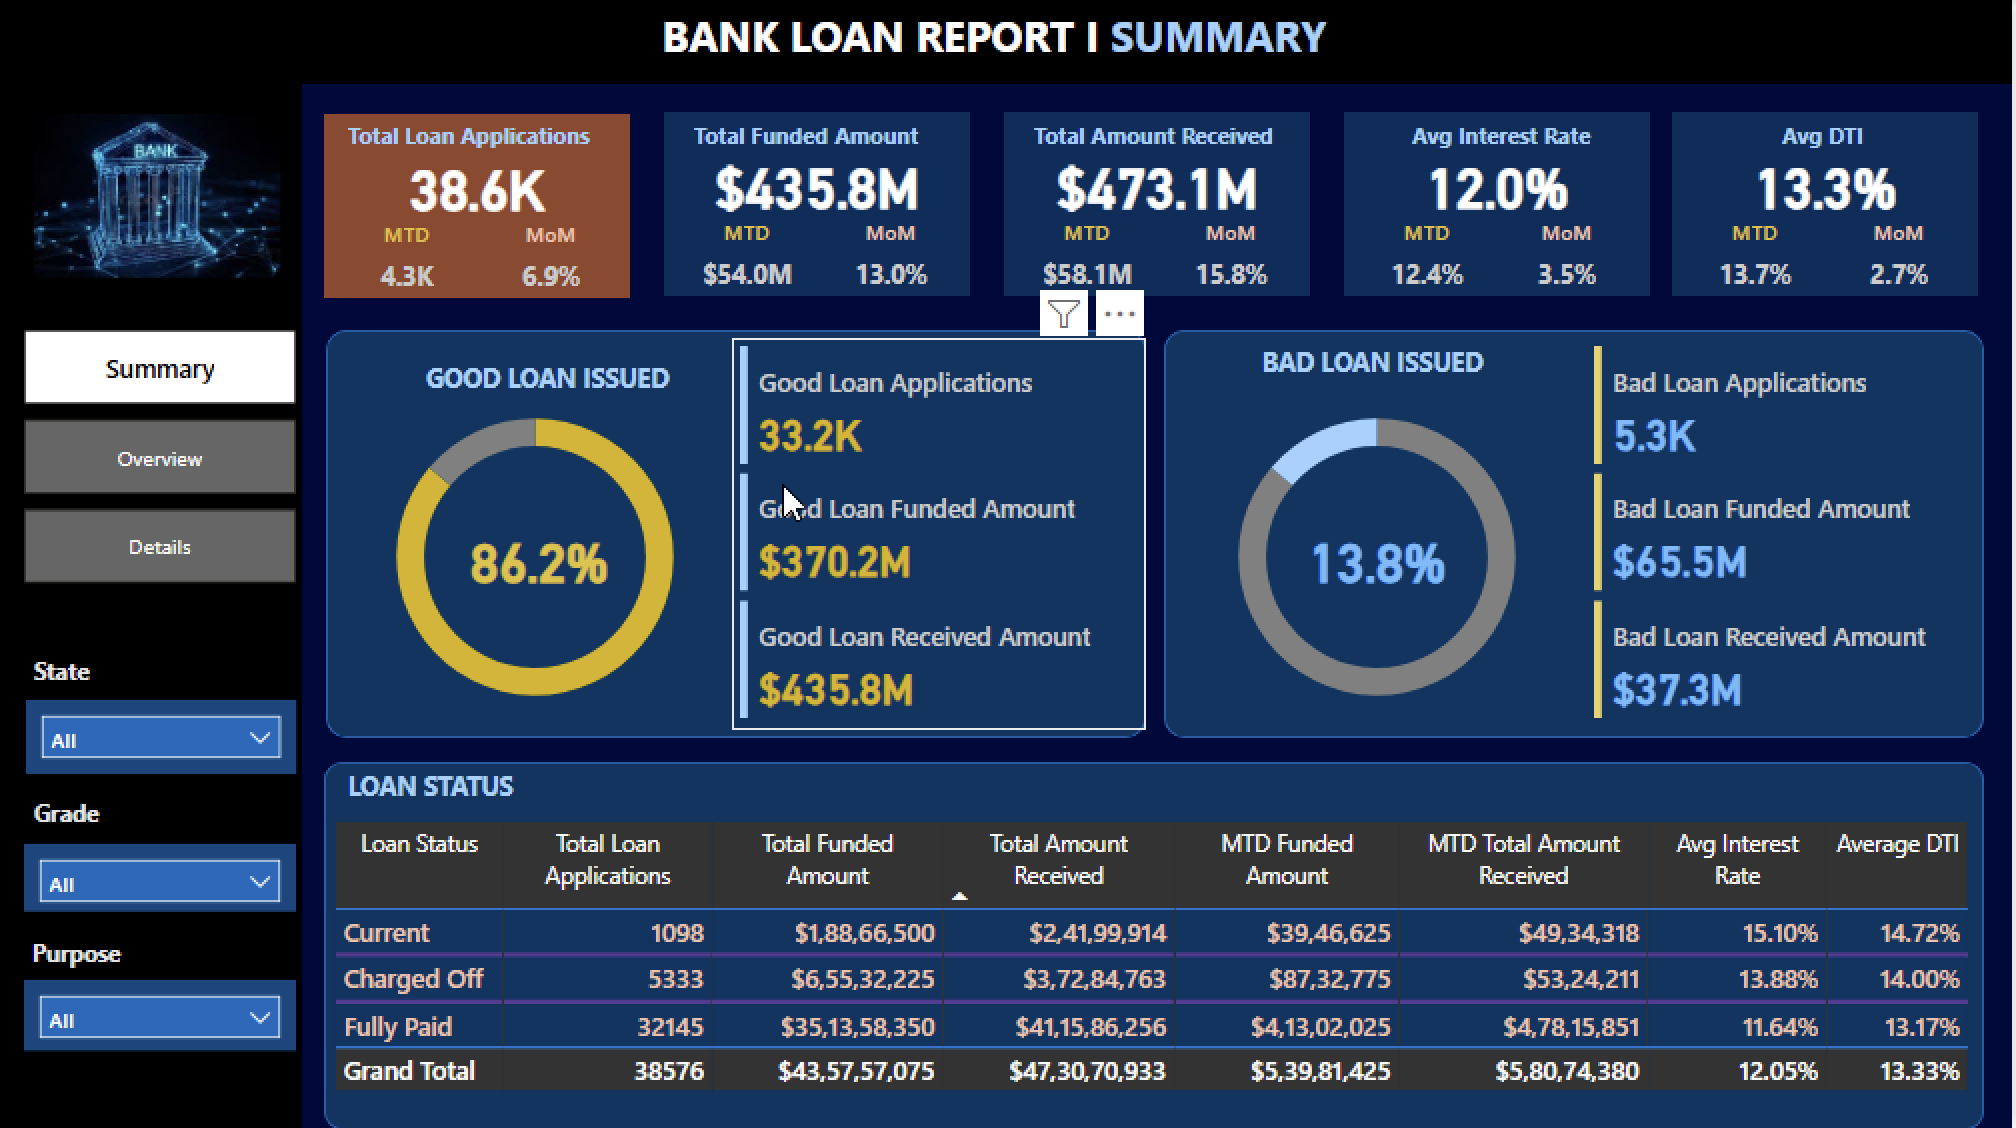

Layout of this report page (visuals, bound fields, positions):
{"tool":"powerbi","page":{"name":"Summary","canvas":[1280,720],"ordinal":0},"visuals":[{"type":"shape","box":[423,72.5,194.6,117],"z":0,"group":"g2"},{"type":"shape","box":[638.6,72.5,194.6,117],"z":0,"group":"g3"},{"type":"shape","box":[855.5,72.5,194.6,117],"z":0},{"type":"shape","box":[1063.5,72.5,194.6,117],"z":0,"group":"g4"},{"type":"shape","box":[206.1,74.5,194.6,117],"z":0,"group":"g1"},{"type":"card","fields":{"Values":["financial_loan.Total Funded Amount"]},"box":[423,90.3,194.6,56],"z":1000,"group":"g2"},{"type":"card","fields":{"Values":["financial_loan.Total Amount Received"]},"box":[638.6,90.3,194.6,56],"z":1000,"group":"g3"},{"type":"card","fields":{"Values":["financial_loan.Average DTI"]},"box":[1063.5,90.3,194.6,56],"z":1000,"group":"g4"},{"type":"card","fields":{"Values":["financial_loan.Total Loan Applications"]},"box":[206.1,92.3,194.6,56],"z":1000,"group":"g1"},{"type":"shape","box":[207.3,211.2,521.6,259.5],"z":1000},{"type":"shape","box":[0,0,1279.7,54.7],"z":2000},{"type":"textbox","box":[437,72.5,194.6,35.6],"z":2000,"group":"g2"},{"type":"textbox","box":[652.6,72.5,194.6,35.6],"z":2000,"group":"g3"},{"type":"textbox","box":[216.2,73,187,40.7],"z":2000,"group":"g1"},{"type":"textbox","box":[1127.8,73.1,94.1,35.6],"z":2000,"group":"g4"},{"type":"card","fields":{"Values":["financial_loan.Avg Interest Rate"]},"box":[855.5,90.3,194.6,56],"z":3000},{"type":"card","title":"MTD","fields":{"Values":["financial_loan.MTD Funded Amount"]},"box":[437,139.9,77.6,58.5],"z":3000,"group":"g2"},{"type":"card","title":"MTD","fields":{"Values":["financial_loan.MTD Total Amount Received"]},"box":[652.6,139.9,77.6,58.5],"z":3000,"group":"g3"},{"type":"card","title":"MTD","fields":{"Values":["financial_loan.MTD Avg DTI"]},"box":[1077.5,139.9,77.6,58.5],"z":3000,"group":"g4"},{"type":"card","title":"MTD","fields":{"Values":["financial_loan.MTD Loan Applications"]},"box":[220.1,141.9,77.6,58.5],"z":3000,"group":"g1"},{"type":"shape","box":[0,54.7,192,665.3],"z":4000},{"type":"card","title":"MoM","fields":{"Values":["financial_loan.MoM Total Funded Amount"]},"box":[534.9,139.9,64.9,58.5],"z":4000,"group":"g2"},{"type":"card","title":"MoM","fields":{"Values":["financial_loan.MoM Total Amount Received"]},"box":[750.5,139.9,64.9,58.5],"z":4000,"group":"g3"},{"type":"card","title":"MoM","fields":{"Values":["financial_loan.MoM Avg DTI"]},"box":[1175.4,139.9,64.9,58.5],"z":4000,"group":"g4"},{"type":"card","title":"MoM","fields":{"Values":["financial_loan.MoM  Loan Application"]},"box":[318,141.9,64.9,58.5],"z":4000,"group":"g1"},{"type":"textbox","box":[893,72.5,170.5,33.1],"z":5000},{"type":"card","title":"MTD","fields":{"Values":["financial_loan.MTD Avg Int Rate"]},"box":[869.5,139.9,77.6,58.5],"z":6000},{"type":"card","fields":{"Values":["financial_loan.Good Loan %"]},"box":[282.4,328.2,120.8,56],"z":7000},{"type":"textbox","box":[416.1,0,447.8,56],"z":8000},{"type":"card","title":"MoM","fields":{"Values":["financial_loan.MoM Avg Int Rate"]},"box":[964.2,139.9,64.9,58.5],"z":9000},{"type":"group","id":"g1","title":"Group 1","box":[206.1,73,197.1,127.4],"z":10000},{"type":"group","id":"g2","title":"Group 1","box":[423,72.5,208.6,125.9],"z":11000},{"type":"group","id":"g3","title":"Group 1","box":[638.6,72.5,209.9,125.9],"z":12000},{"type":"group","id":"g4","title":"Group 1","box":[1063.5,72.5,194.6,125.9],"z":13000},{"type":"shape","box":[740.4,211.2,521.6,259.5],"z":14000},{"type":"donutChart","fields":{"Y":["financial_loan.Total Loan Applications"],"Category":["financial_loan.Good v Bad Loan"]},"box":[215,240.4,250.6,230.2],"z":15000},{"type":"cardVisual","fields":{"Data":["financial_loan.Good Loan Applications","financial_loan.Good Loan Funded Amount","financial_loan.Good Loan Received Amount"]},"box":[465.6,216.3,263.3,249.3],"z":16000},{"type":"donutChart","fields":{"Y":["financial_loan.Total Loan Applications"],"Category":["financial_loan.Good v Bad Loan"]},"box":[750.5,240.4,250.6,230.2],"z":17000},{"type":"textbox","box":[797.6,216.3,190.8,33.1],"z":18000},{"type":"card","fields":{"Values":["financial_loan.Bad Loan %"]},"box":[815.4,328.2,120.8,56],"z":19000},{"type":"shape","box":[206.1,485.9,1055.8,234.1],"z":20000},{"type":"cardVisual","fields":{"Data":["financial_loan.Bad Loan Applications","financial_loan.Bad Loan Funded Amount","financial_loan.Bad Loan Received Amount"]},"box":[1008.8,216.3,263.3,249.3],"z":21000},{"type":"tableEx","fields":{"Values":["financial_loan.loan_status","financial_loan.Total Loan Applications","financial_loan.Total Funded Amount","financial_loan.Total Amount Received","financial_loan.MTD Funded Amount","financial_loan.MTD Total Amount Received","financial_loan.Avg Interest Rate","financial_loan.Average DTI"]},"box":[207.3,519,1054.6,192.1],"z":22000},{"type":"textbox","box":[216.3,485.9,202.3,33.1],"z":23000},{"type":"slicer","fields":{"Values":["financial_loan.grade"]},"box":[15.3,538.1,173,43.3],"z":24000},{"type":"textbox","box":[265.7,226.3,190.8,33.1],"z":25000},{"type":"textbox","box":[16.5,412.2,66.1,34.3],"z":26000},{"type":"slicer","fields":{"Values":["financial_loan.address_state"]},"box":[16.5,446.5,171.7,47.1],"z":27000},{"type":"textbox","box":[16.5,502.5,66.1,42],"z":28000},{"type":"slicer","fields":{"Values":["financial_loan.purpose"]},"box":[15.3,624.6,173,44.5],"z":29000},{"type":"textbox","box":[15.3,591.5,87.8,33.1],"z":30000},{"type":"image","box":[16.5,59.8,166.6,132.3],"z":31000},{"type":"pageNavigator","box":[15.3,211.2,173,161.6],"z":32000}]}

Visuals, with their boxes in screenshot pixels (x1, y1, x2, y2), scaled from the page's 1280x720 canvas onto the 2016x1128 screenshot:
shape: <region>666, 114, 973, 297</region>
shape: <region>1006, 114, 1312, 297</region>
shape: <region>1347, 114, 1654, 297</region>
shape: <region>1675, 114, 1982, 297</region>
shape: <region>325, 117, 631, 300</region>
card - financial_loan.Total Funded Amount: <region>666, 141, 973, 229</region>
card - financial_loan.Total Amount Received: <region>1006, 141, 1312, 229</region>
card - financial_loan.Average DTI: <region>1675, 141, 1982, 229</region>
card - financial_loan.Total Loan Applications: <region>325, 145, 631, 232</region>
shape: <region>326, 331, 1148, 737</region>
shape: <region>0, 0, 2015, 86</region>
textbox: <region>688, 114, 995, 169</region>
textbox: <region>1028, 114, 1334, 169</region>
textbox: <region>341, 114, 635, 178</region>
textbox: <region>1776, 115, 1924, 170</region>
card - financial_loan.Avg Interest Rate: <region>1347, 141, 1654, 229</region>
"MTD" card: <region>688, 219, 810, 311</region>
"MTD" card: <region>1028, 219, 1150, 311</region>
"MTD" card: <region>1697, 219, 1819, 311</region>
"MTD" card: <region>347, 222, 469, 314</region>
shape: <region>0, 86, 302, 1127</region>
"MoM" card: <region>842, 219, 945, 311</region>
"MoM" card: <region>1182, 219, 1284, 311</region>
"MoM" card: <region>1851, 219, 1953, 311</region>
"MoM" card: <region>501, 222, 603, 314</region>
textbox: <region>1406, 114, 1675, 165</region>
"MTD" card: <region>1369, 219, 1492, 311</region>
card - financial_loan.Good Loan %: <region>445, 514, 635, 602</region>
textbox: <region>655, 0, 1361, 88</region>
"MoM" card: <region>1519, 219, 1621, 311</region>
"Group 1" group: <region>325, 114, 635, 314</region>
"Group 1" group: <region>666, 114, 995, 311</region>
"Group 1" group: <region>1006, 114, 1336, 311</region>
"Group 1" group: <region>1675, 114, 1982, 311</region>
shape: <region>1166, 331, 1988, 737</region>
donutChart - financial_loan.Total Loan Applications x financial_loan.Good v Bad Loan: <region>339, 377, 733, 737</region>
cardVisual - financial_loan.Good Loan Applications x financial_loan.Good Loan Funded Amount: <region>733, 339, 1148, 729</region>
donutChart - financial_loan.Total Loan Applications x financial_loan.Good v Bad Loan: <region>1182, 377, 1577, 737</region>
textbox: <region>1256, 339, 1557, 391</region>
card - financial_loan.Bad Loan %: <region>1284, 514, 1475, 602</region>
shape: <region>325, 761, 1987, 1127</region>
cardVisual - financial_loan.Bad Loan Applications x financial_loan.Bad Loan Funded Amount: <region>1589, 339, 2004, 729</region>
tableEx - financial_loan.loan_status x financial_loan.Total Loan Applications: <region>326, 813, 1987, 1114</region>
textbox: <region>341, 761, 659, 813</region>
slicer - financial_loan.grade: <region>24, 843, 297, 911</region>
textbox: <region>418, 355, 719, 406</region>
textbox: <region>26, 646, 130, 700</region>
slicer - financial_loan.address_state: <region>26, 700, 296, 773</region>
textbox: <region>26, 787, 130, 853</region>
slicer - financial_loan.purpose: <region>24, 979, 297, 1048</region>
textbox: <region>24, 927, 162, 979</region>
image: <region>26, 94, 288, 301</region>
pageNavigator: <region>24, 331, 297, 584</region>
